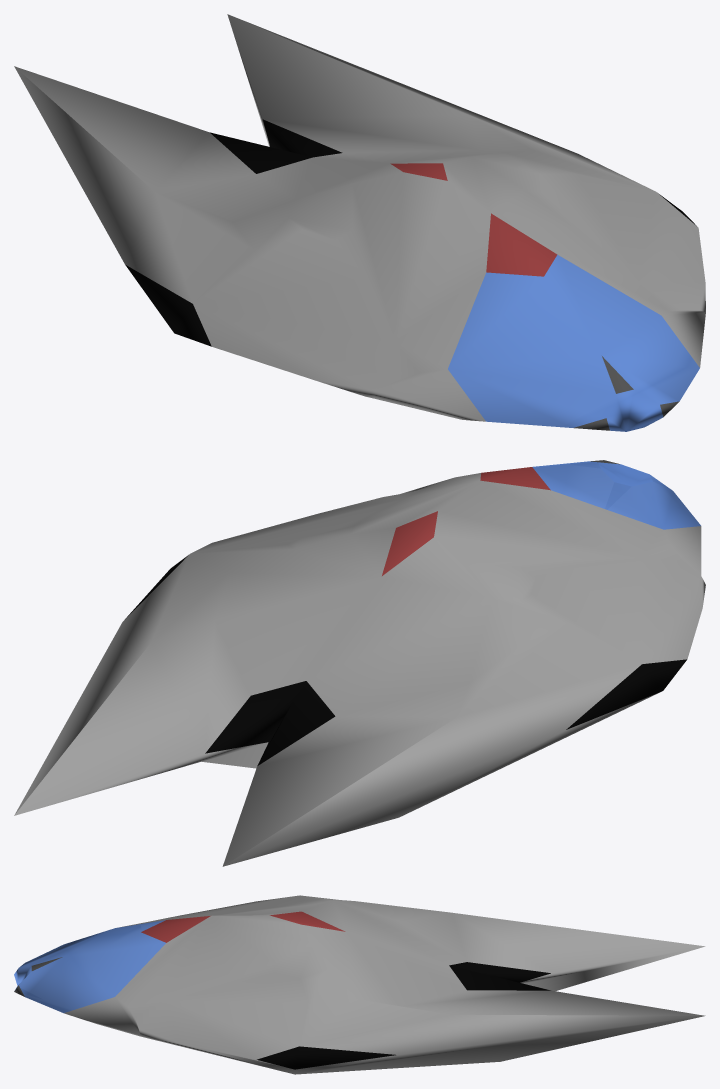
Rendered from Player1.fbx.
3 views of the same model, one above another, from view 1: azimuth 30°, elevation 25°; view 2: azimuth 150°, elevation 25°; view 3: azimuth 270°, elevation 25° (orthographic). The views are drawn at different scales.
Visible parts, largest first — view 1: pCube1; view 2: pCube1; view 3: pCube1.
Part boxes in pixels (<box>): pCube1: <box>14,14,705,431</box>; pCube1: <box>14,460,705,866</box>; pCube1: <box>14,895,705,1074</box>.
Bounding box in the file's own units: 1.9 × 0.7201 × 3.37.
